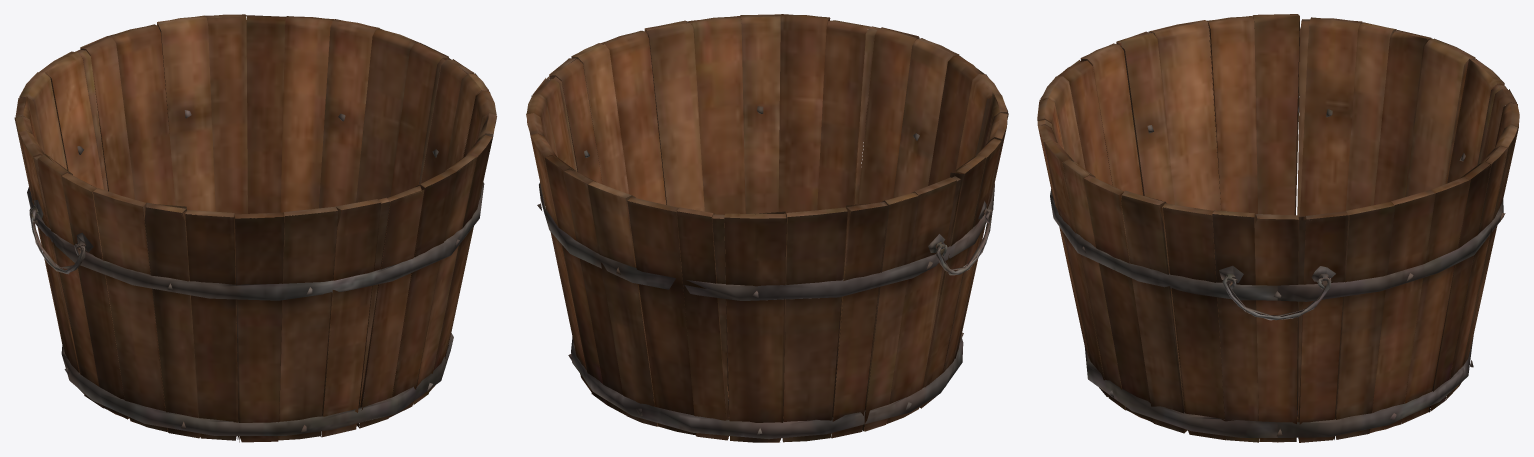
The model's file is bucket2.glb.
The picture shows the model from 3 angles, left to right: view 1: azimuth 30°, elevation 25°; view 2: azimuth 150°, elevation 25°; view 3: azimuth 270°, elevation 25°; orthographic projection.
Visible parts, largest first — view 1: wooden_bucket_02; view 2: wooden_bucket_02; view 3: wooden_bucket_02.
Boxes of the visible parts, x1,y1,x2,y2 form: wooden_bucket_02: (14, 14, 496, 442); wooden_bucket_02: (526, 14, 1008, 442); wooden_bucket_02: (1037, 14, 1519, 442).
Bounding box in the file's own units: 0.613 × 0.3523 × 0.6143.
1 material, 1 textured.
